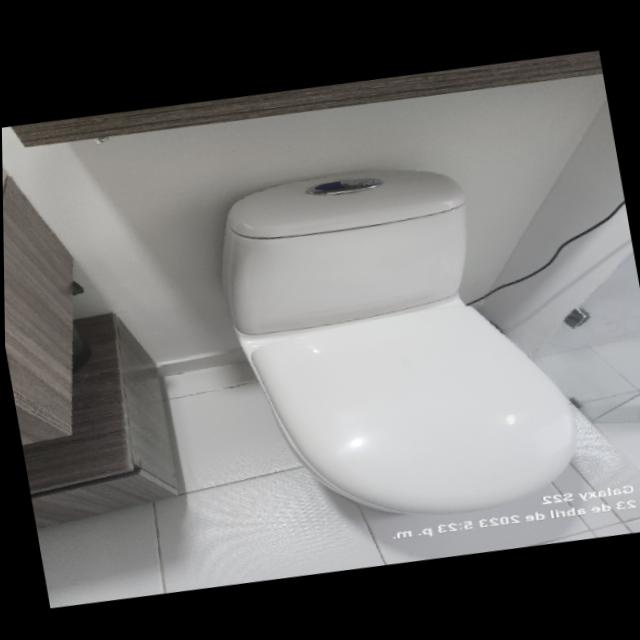toilet: (206, 137, 590, 544)
